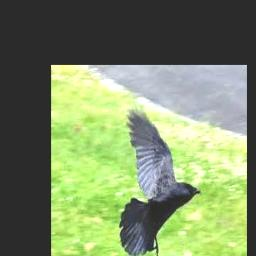Crow: (117, 106, 201, 256)
